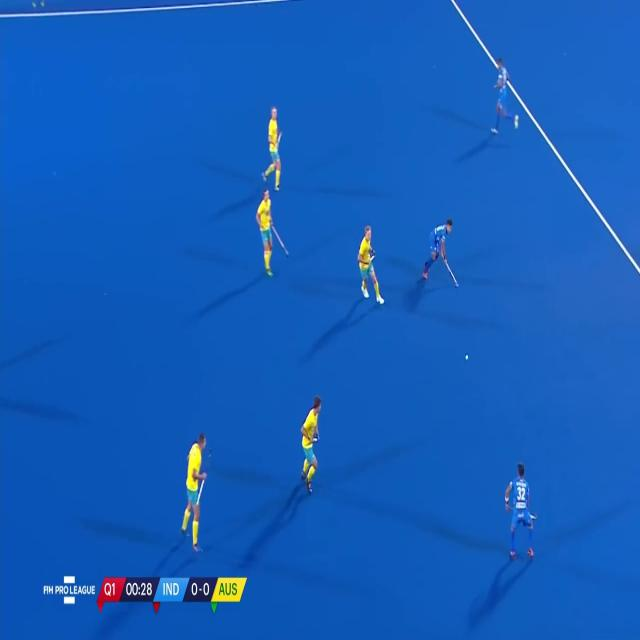ball: (462, 352, 470, 362)
